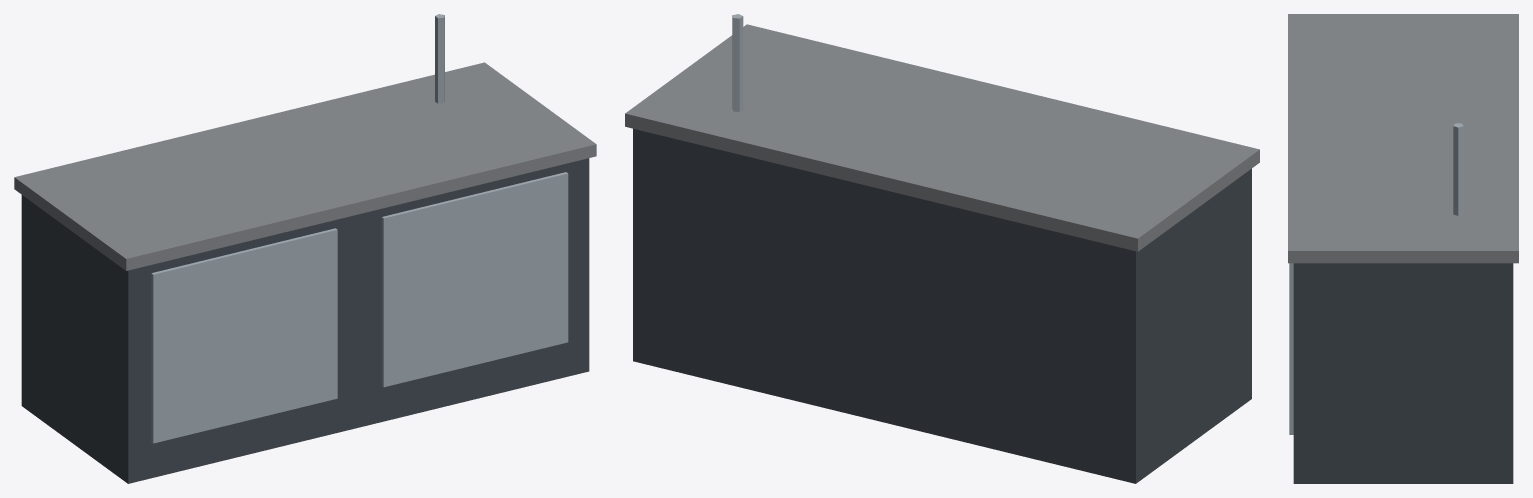
File: GH_LabBench_01.glb
The picture shows the model from 3 angles, left to right: view 1: azimuth 30°, elevation 25°; view 2: azimuth 150°, elevation 25°; view 3: azimuth 270°, elevation 25°; orthographic projection. The views are drawn at different scales.
Visible parts, largest first — view 1: GH_LabBench_01; view 2: GH_LabBench_01; view 3: GH_LabBench_01.
Part boxes in pixels (x1=…): GH_LabBench_01: x1=14, y1=14, x2=596, y2=483; GH_LabBench_01: x1=625, y1=14, x2=1259, y2=483; GH_LabBench_01: x1=1288, y1=14, x2=1518, y2=483.
Bounding box in the file's own units: 2.04 × 1.3 × 0.84.
Materials: 1 (1 with a texture image).
